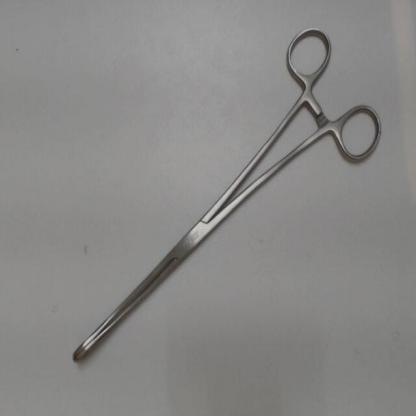Sponge Forceps: (65, 17, 388, 372)
